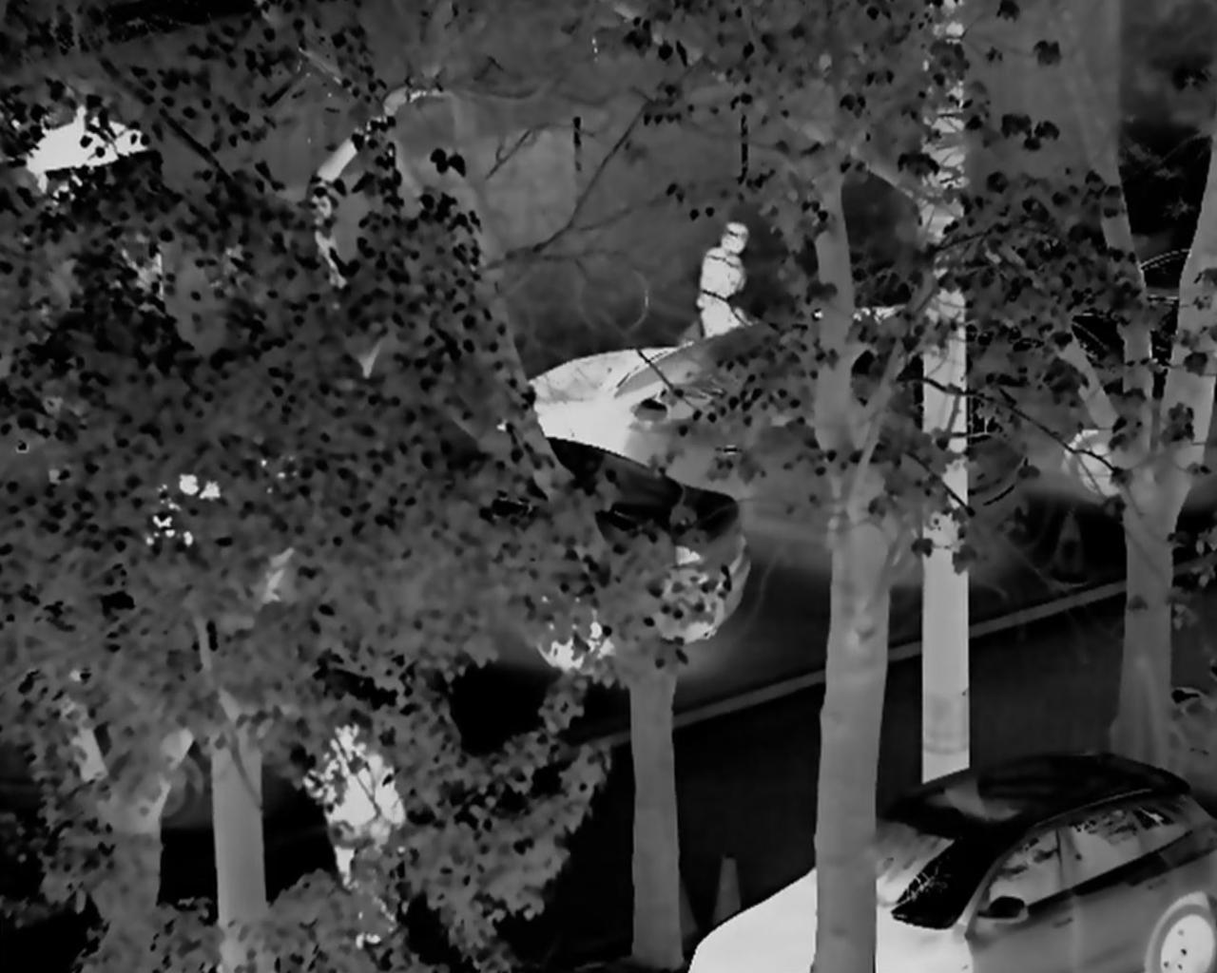person: (301, 703, 401, 943), (687, 205, 756, 357)
